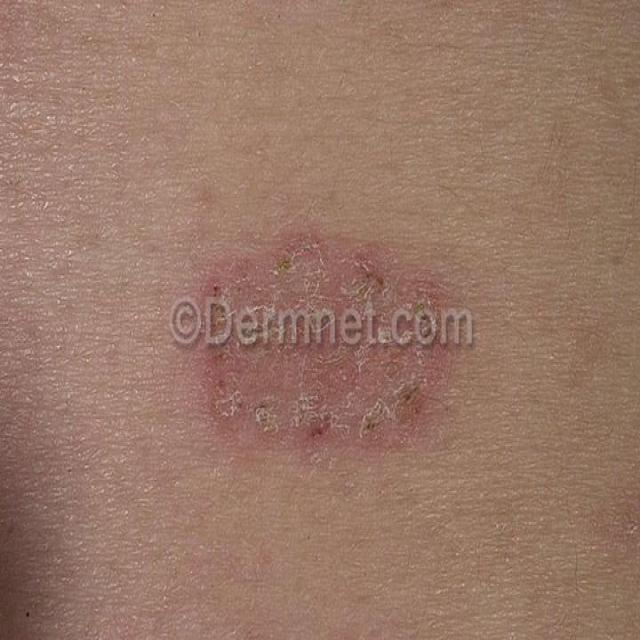Eczema: (171, 233, 459, 478)
